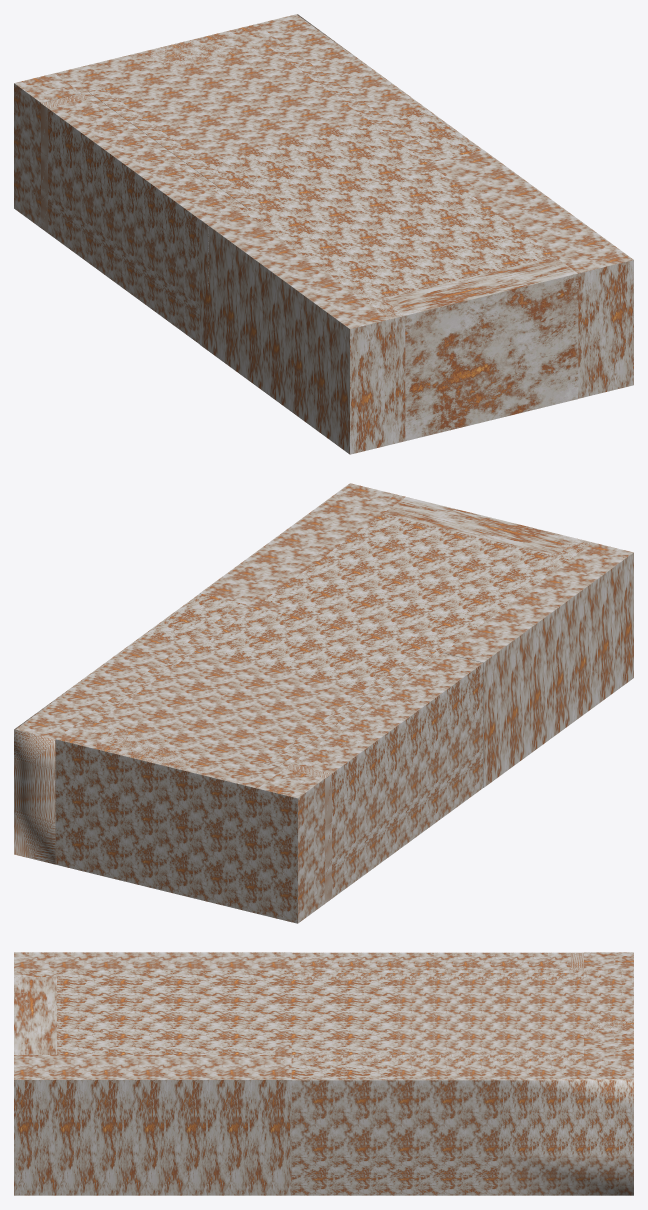
3 views of the same model, one above another, from view 1: azimuth 30°, elevation 25°; view 2: azimuth 150°, elevation 25°; view 3: azimuth 270°, elevation 25° (orthographic). The views are drawn at different scales.
Visible parts, largest first — view 1: Plane__1_, Cube__5_, Cube__4_, Cube__3_, Cube__2_, Cube__1_, Prism__3_, Prism__2_; view 2: Plane__1_, Cube__1_, Cube__4_, Cube__5_, Cube__2_, Cube, Cube__3_, Prism__3_, Prism__2_; view 3: Plane__1_, Cube, Cube__2_, Cube__4_, Cube__5_, Cube__3_, Cube__1_, Prism__2_, Prism__3_.
Part boxes in pixels (x1,y1,x2,y2): Plane__1_: [55, 14, 554, 319]; Cube__5_: [199, 209, 405, 454]; Cube__4_: [41, 93, 239, 343]; Cube__3_: [382, 256, 578, 440]; Cube__2_: [401, 150, 633, 398]; Cube__1_: [14, 24, 282, 227]; Prism__3_: [88, 88, 260, 207]; Prism__2_: [269, 43, 441, 163]; Plane__1_: [15, 514, 592, 788]; Cube__1_: [55, 719, 324, 923]; Cube__4_: [285, 653, 483, 903]; Cube__5_: [405, 539, 633, 787]; Cube__2_: [200, 483, 405, 613]; Cube: [14, 593, 199, 864]; Cube__3_: [383, 497, 578, 555]; Prism__3_: [264, 647, 436, 766]; Prism__2_: [82, 603, 255, 722]; Plane__1_: [14, 970, 633, 1079]; Cube: [291, 1079, 633, 1195]; Cube__2_: [14, 1043, 291, 1195]; Cube__4_: [291, 952, 583, 970]; Cube__5_: [14, 952, 291, 970]; Cube__3_: [14, 977, 56, 1054]; Cube__1_: [584, 952, 633, 1061]; Prism__2_: [291, 1054, 583, 1061]; Prism__3_: [291, 973, 583, 979].
Size of the model in its own units: 704 by 298 by 1443.
